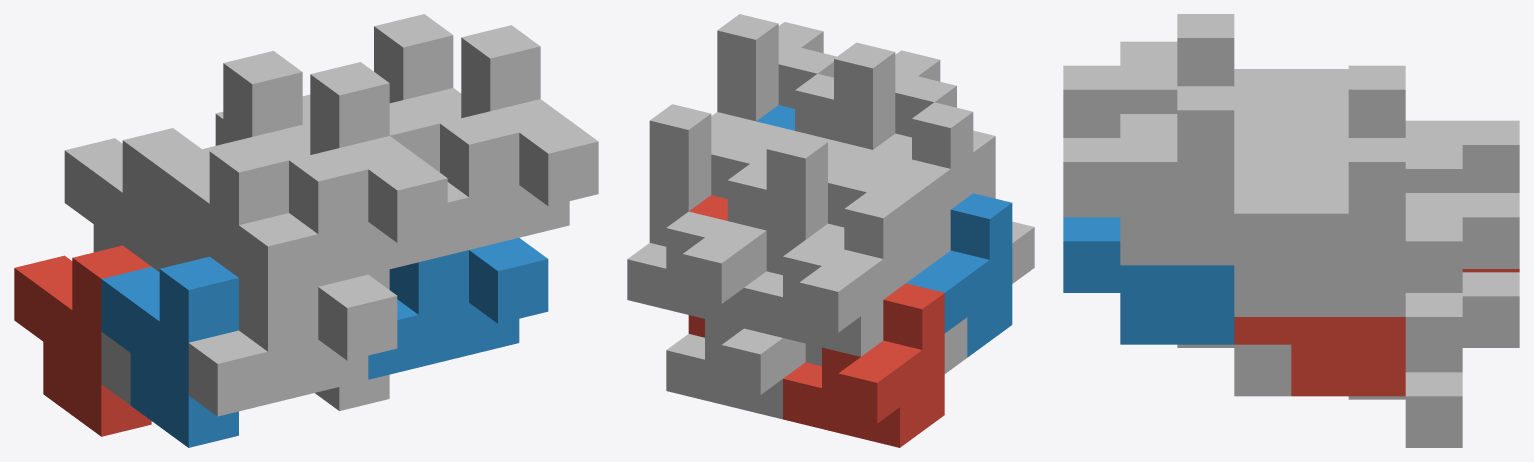
The model's file is tiling.obj.
3 views of the same model, side by side, from view 1: azimuth 30°, elevation 25°; view 2: azimuth 150°, elevation 25°; view 3: azimuth 270°, elevation 25° (orthographic). The views are drawn at different scales.
Parts seen in each view (by area): view 1: copy_2_domain_4, copy_2_domain_8, copy_2_domain_2, copy_1_domain_2, copy_2_domain_6, copy_1_domain_1, copy_1_domain_4, copy_1_domain_3, copy_2_domain_3, copy_2_domain_7, copy_1_domain_8, copy_1_domain_6 (+1 smaller); view 2: copy_1_domain_1, copy_1_domain_3, copy_1_domain_7, copy_2_domain_3, copy_2_domain_4, copy_1_domain_2, copy_1_domain_4, copy_2_domain_7, copy_1_domain_5, copy_2_domain_8, copy_1_domain_8, copy_2_domain_2 (+3 smaller); view 3: copy_2_domain_7, copy_2_domain_8, copy_1_domain_7, copy_2_domain_6, copy_2_domain_4, copy_2_domain_5, copy_1_domain_5, copy_2_domain_3, copy_1_domain_3, copy_1_domain_8, copy_1_domain_4, copy_1_domain_6.
Part boxes in pixels (<box>): copy_2_domain_4: <box>239,62,447,298</box>; copy_2_domain_8: <box>418,25,598,261</box>; copy_2_domain_2: <box>188,274,397,416</box>; copy_1_domain_2: <box>101,256,238,447</box>; copy_2_domain_6: <box>368,238,548,379</box>; copy_1_domain_1: <box>14,245,151,436</box>; copy_1_domain_4: <box>151,139,288,277</box>; copy_1_domain_3: <box>64,128,201,266</box>; copy_2_domain_3: <box>151,51,310,271</box>; copy_2_domain_7: <box>374,14,461,123</box>; copy_1_domain_8: <box>303,102,439,172</box>; copy_1_domain_6: <box>315,269,389,410</box>; copy_1_domain_1: <box>783,283,944,447</box>; copy_1_domain_3: <box>744,192,905,356</box>; copy_1_domain_7: <box>627,164,766,328</box>; copy_2_domain_3: <box>766,132,928,282</box>; copy_2_domain_4: <box>834,42,995,192</box>; copy_1_domain_2: <box>906,193,1012,357</box>; copy_1_domain_4: <box>851,102,973,266</box>; copy_2_domain_7: <box>649,104,769,246</box>; copy_1_domain_5: <box>666,319,805,419</box>; copy_2_domain_8: <box>717,14,836,121</box>; copy_1_domain_8: <box>734,73,833,167</box>; copy_2_domain_2: <box>873,133,1034,283</box>; copy_2_domain_7: <box>1234,138,1405,316</box>; copy_2_domain_8: <box>1063,86,1234,265</box>; copy_1_domain_7: <box>1405,193,1519,368</box>; copy_2_domain_6: <box>1063,217,1234,344</box>; copy_2_domain_4: <box>1063,14,1234,137</box>; copy_2_domain_5: <box>1234,317,1405,396</box>; copy_1_domain_5: <box>1348,272,1519,447</box>; copy_2_domain_3: <box>1234,65,1405,141</box>; copy_1_domain_3: <box>1405,120,1519,192</box>; copy_1_domain_8: <box>1234,141,1348,316</box>; copy_1_domain_4: <box>1234,69,1348,117</box>; copy_1_domain_6: <box>1177,344,1291,396</box>.
Size of the model in its own units: 7 by 7 by 8.
